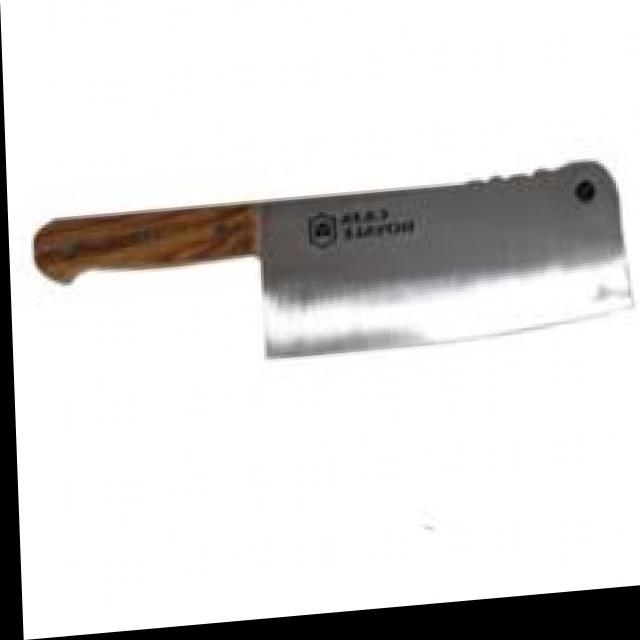knife: (34, 157, 636, 360)
